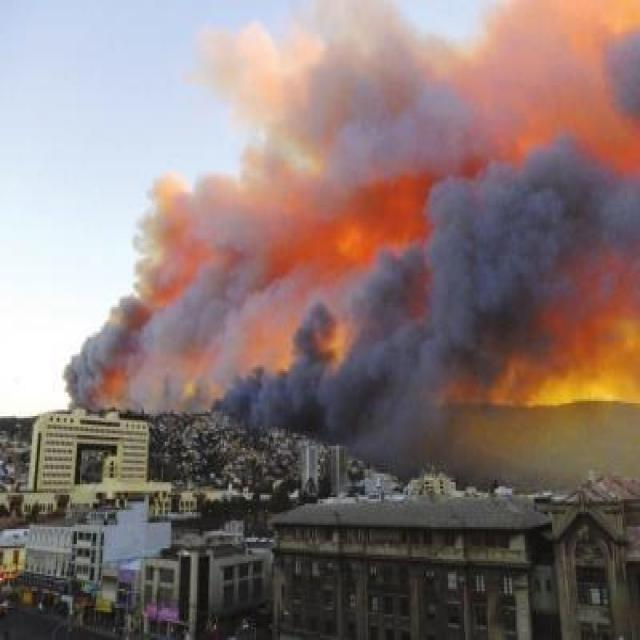Smoke: (64, 0, 640, 446)
